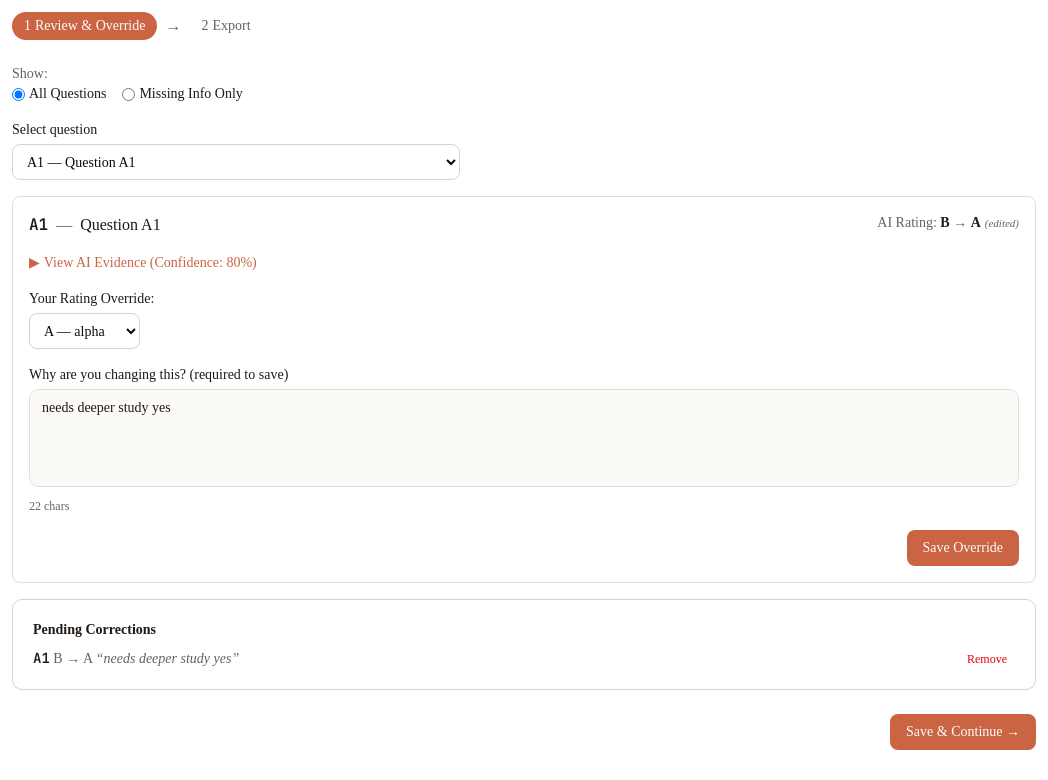
Test case: HiflWizard › Save & Continue reveals the Export recap
The width and height of the screenshot is (1048, 780).
Click the button "Save & Continue →" at coordinates (963, 732), box left=890, top=714, right=1036, bottom=750
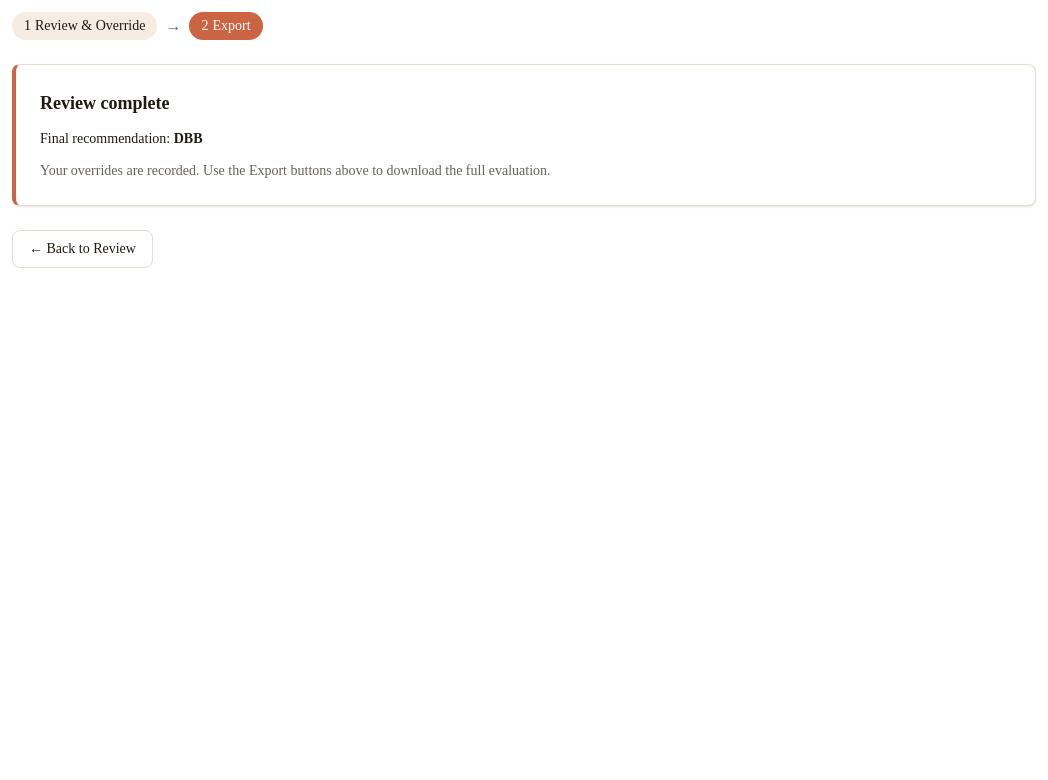
expect the text "Review complete" is shown: met, box left=40, top=93, right=170, bottom=113
expect the text "Final recommendation:" is shown: met, box left=40, top=131, right=170, bottom=146
